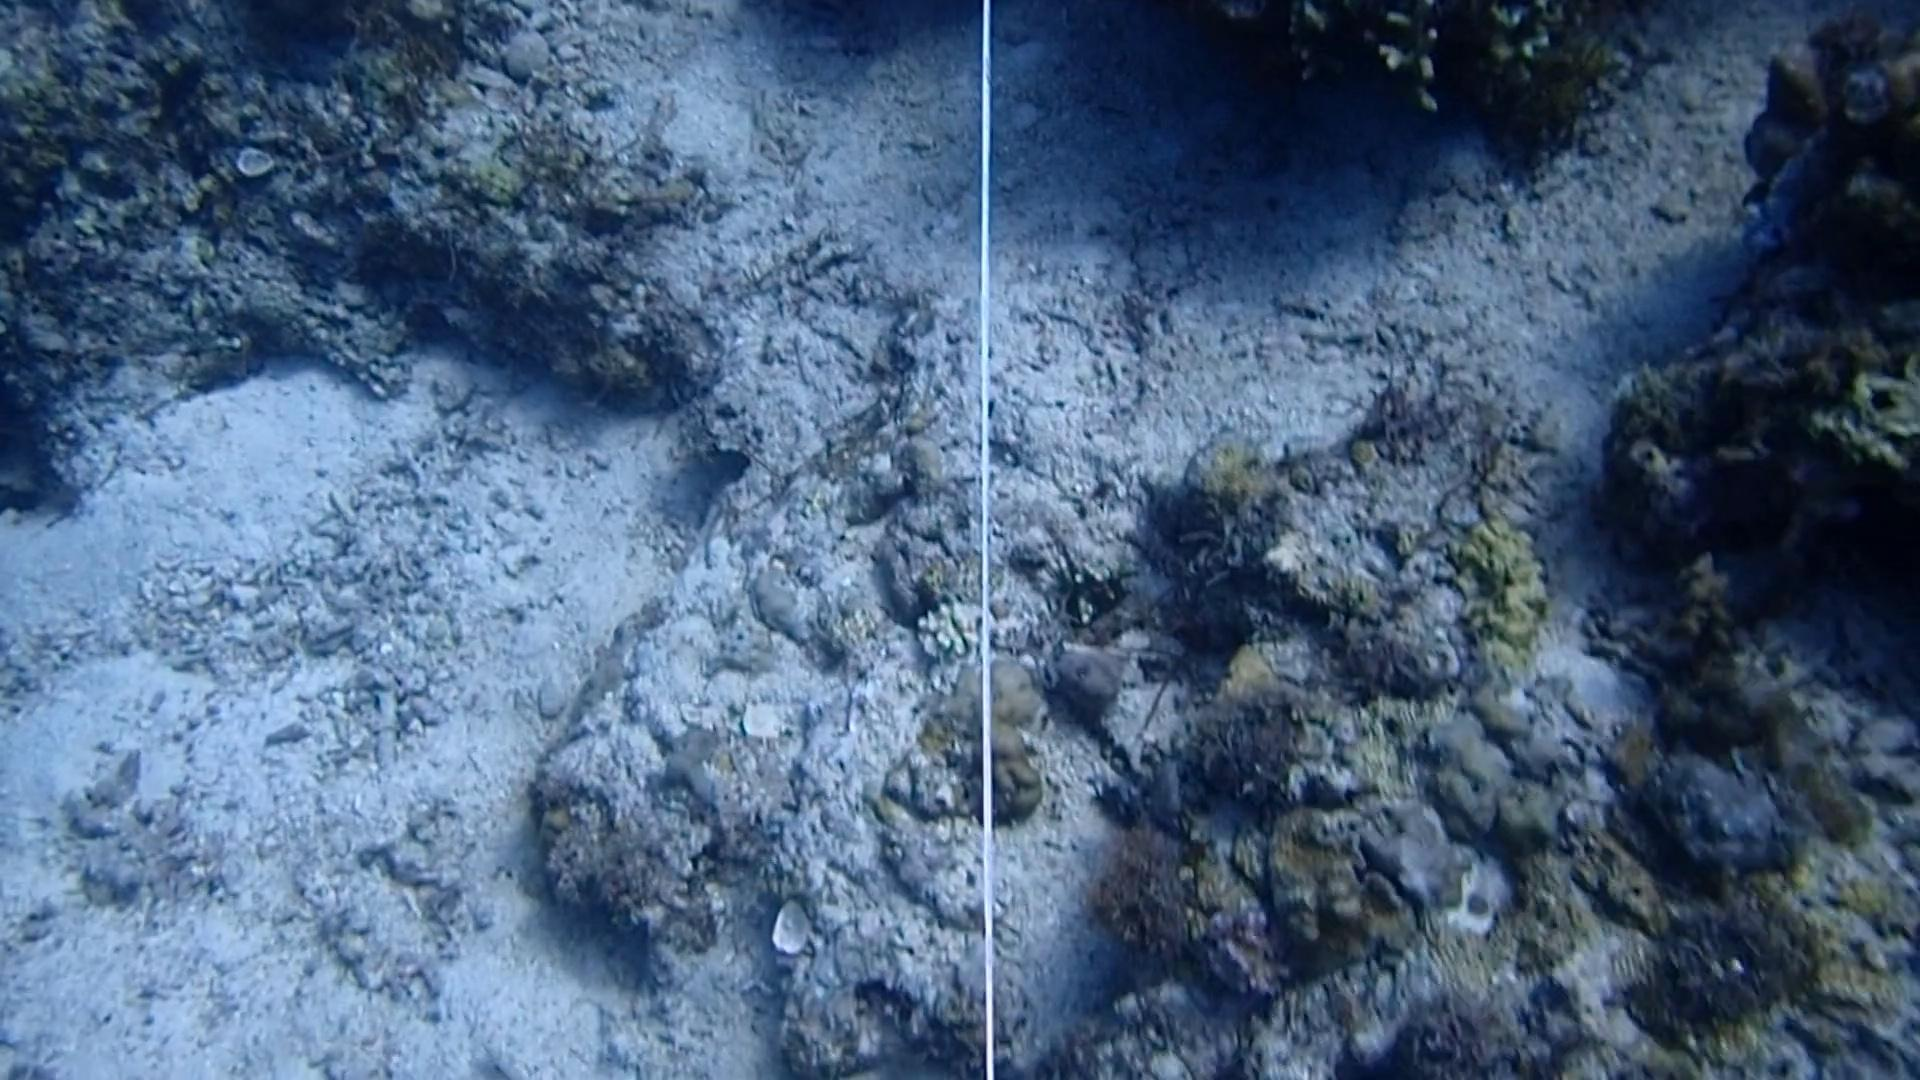Dark Fish: (148, 46, 219, 131)
